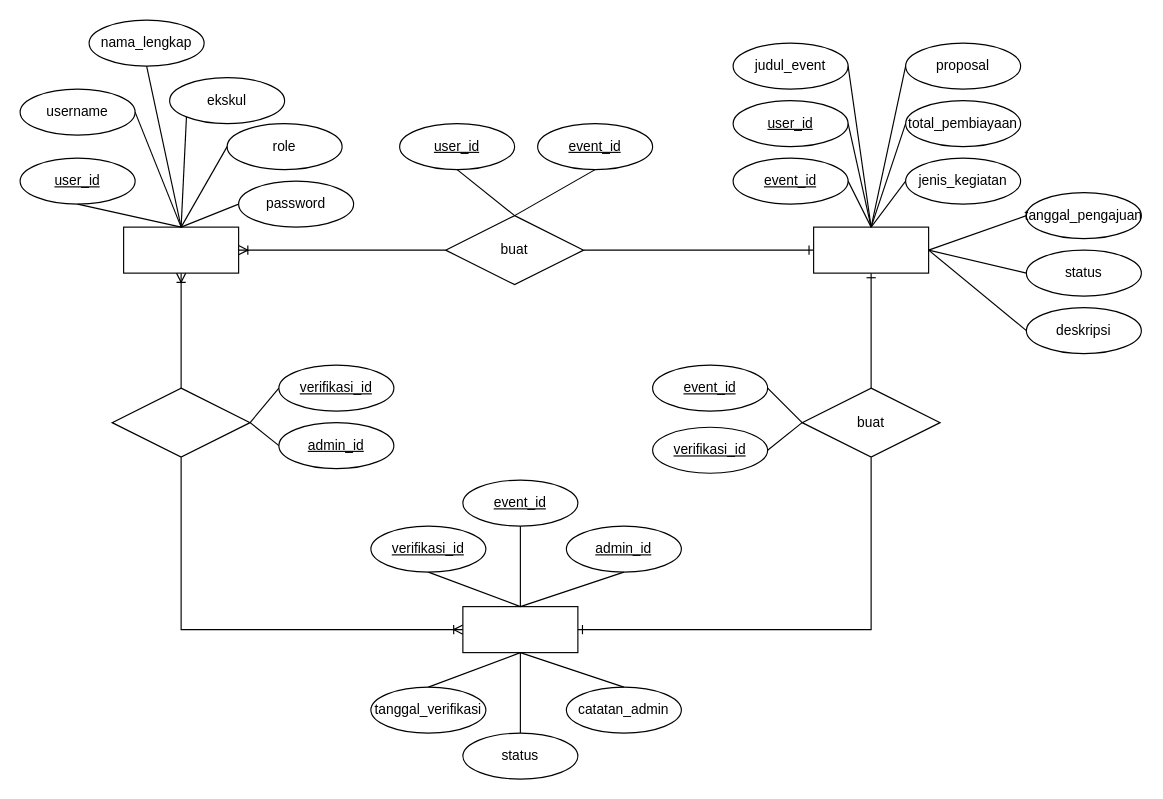
Some shapes in this 1163 by 799 pixel diagram are drawn without their labels. Each missing label, with the box of its shape:
event_pengajuan: (812, 226, 929, 273)
users: (122, 226, 239, 273)
verifikasi: (111, 387, 250, 457)
verifikasi_event: (462, 605, 578, 653)
